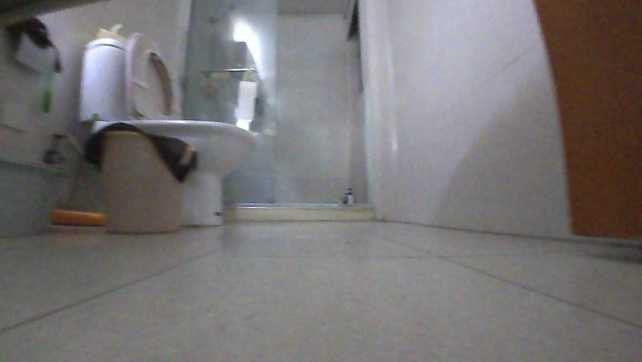toilet: (78, 28, 256, 226)
trash_can: (85, 121, 196, 233)
